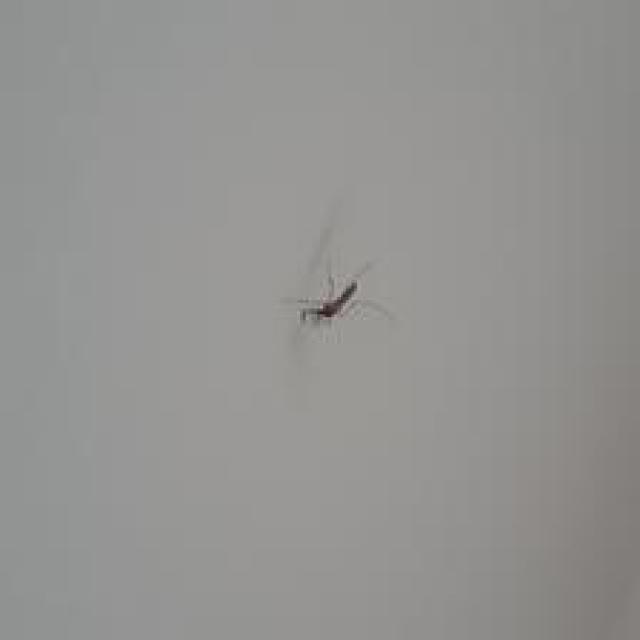Culex: (283, 257, 388, 332)
